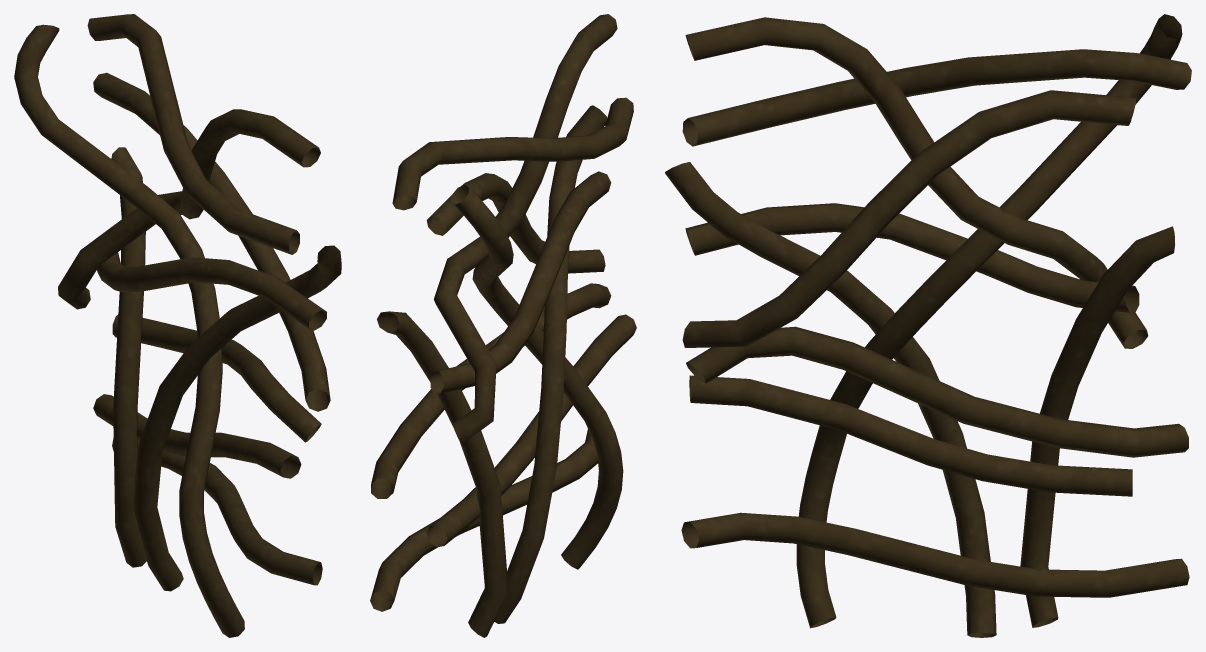
3 renders of one model, left to right at view 1: azimuth 30°, elevation 25°; view 2: azimuth 150°, elevation 25°; view 3: azimuth 270°, elevation 25°, orthographic. The views are drawn at different scales.
Parts seen in each view (by area): view 1: FF_P2; view 2: FF_P2; view 3: FF_P2.
Boxes of the visible parts, left/top/right/bottom form: FF_P2: left=14, top=14, right=341, bottom=637; FF_P2: left=370, top=14, right=636, bottom=637; FF_P2: left=665, top=14, right=1191, bottom=637.
Bounding box in the file's own units: 83.79 × 283 × 216.
1 material, 1 textured.
